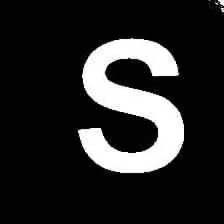LTR_S: (77, 34, 189, 174)
